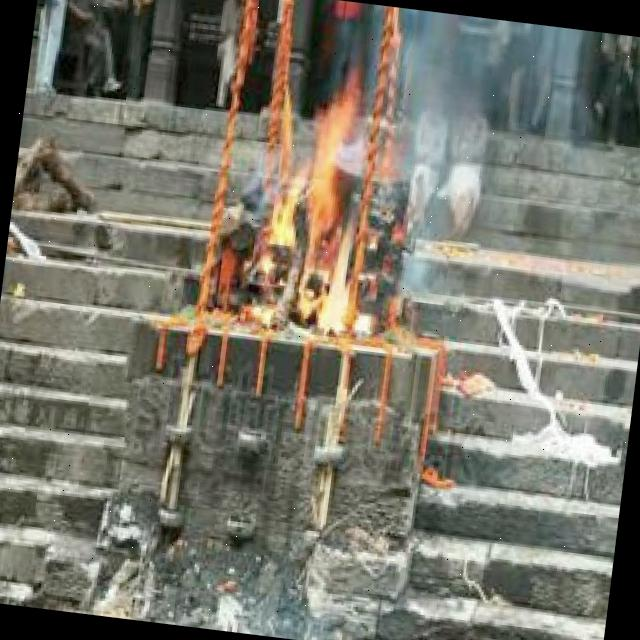fire: (247, 86, 404, 338)
